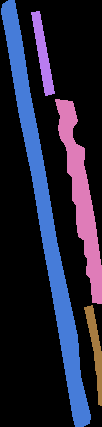parkingspot: (1, 0, 90, 427), (55, 99, 102, 303), (31, 11, 54, 95), (84, 305, 102, 405)
